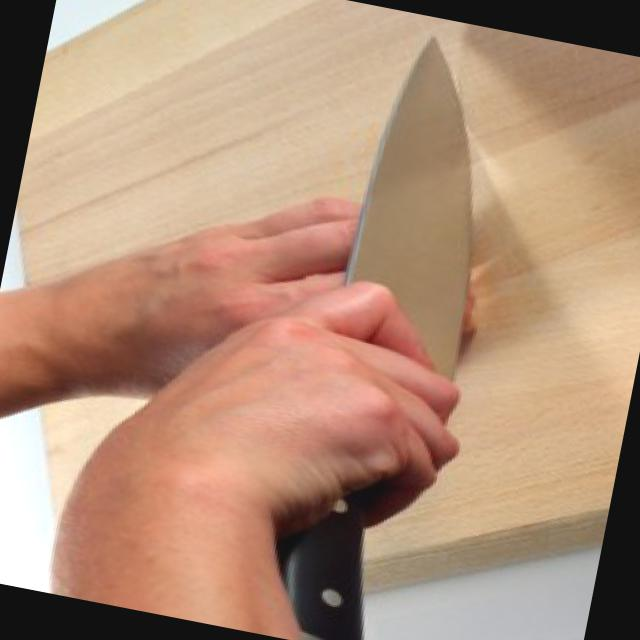knife: (269, 19, 533, 488)
